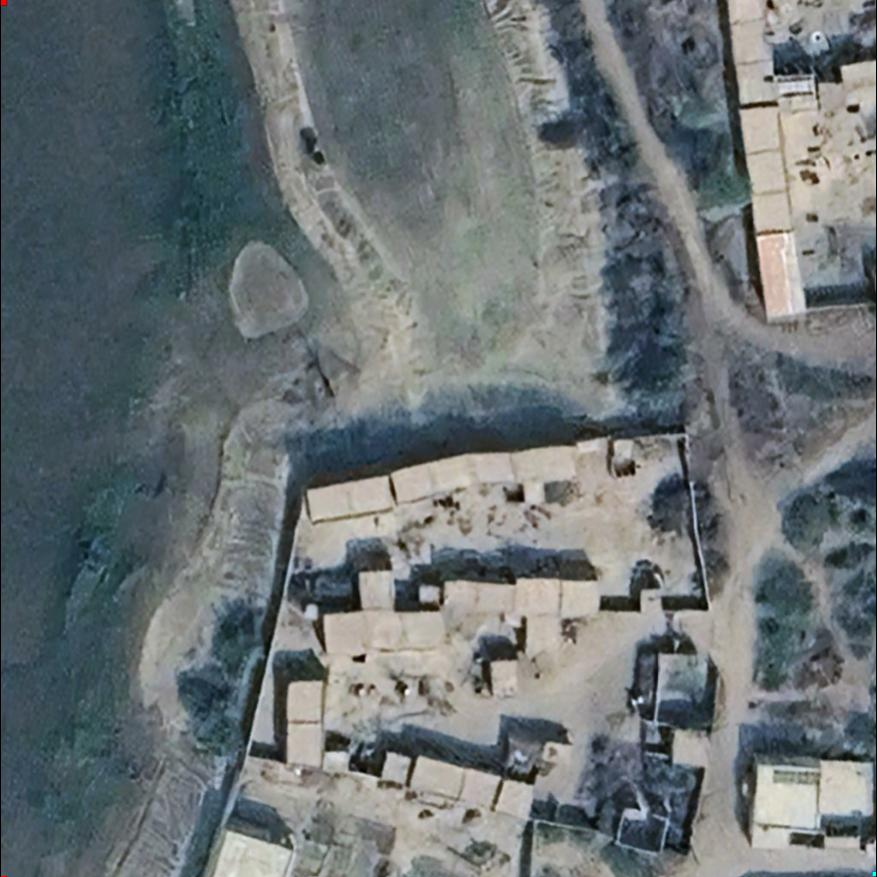Solarpanel: (768, 764, 823, 789)
